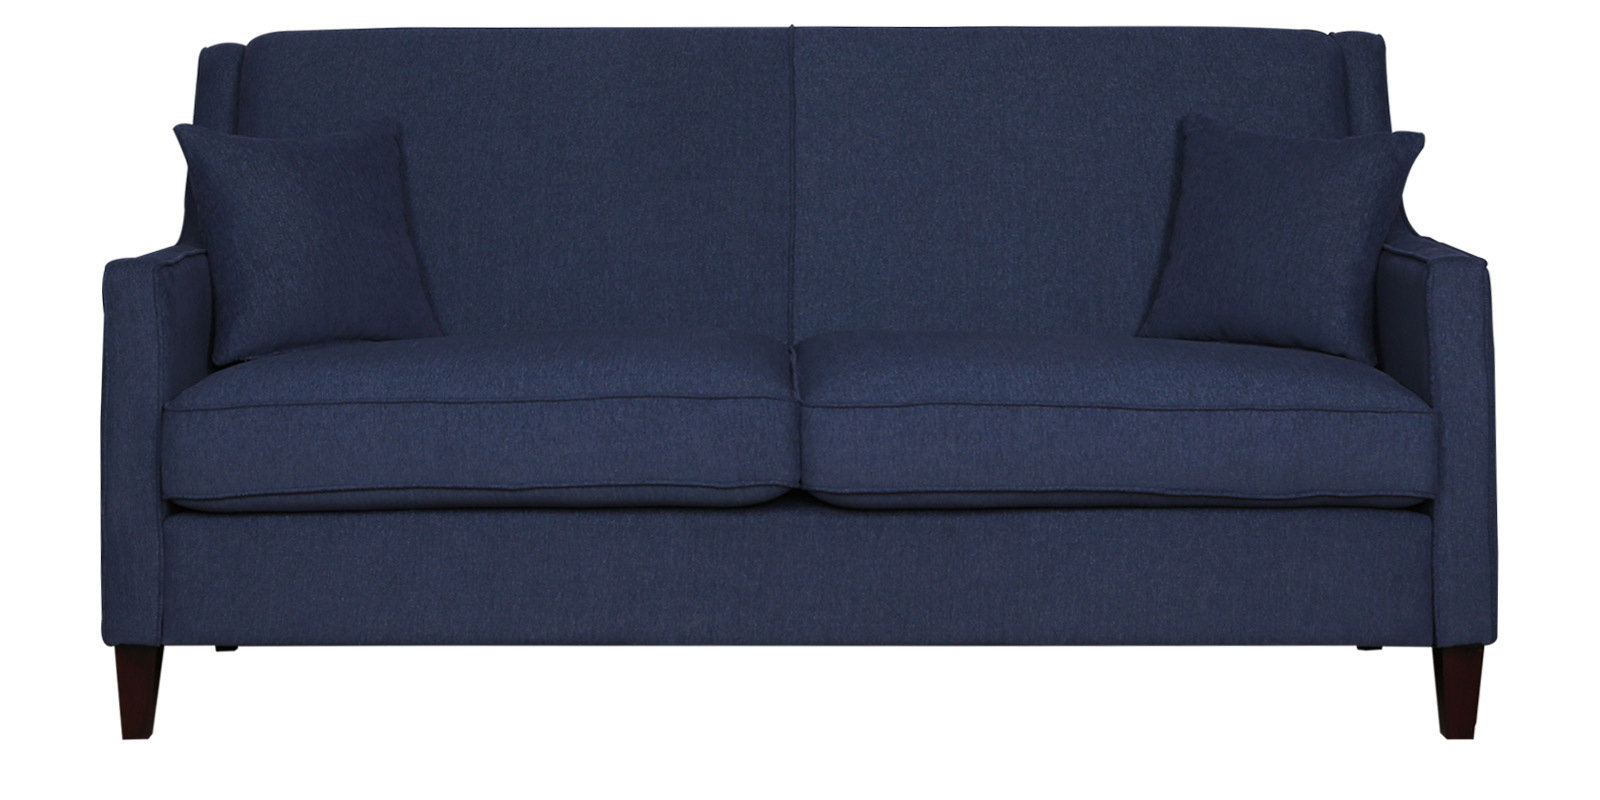Oscar Three Seater Sofa in Navy Blue Colour by CasaCraft: (97, 26, 1500, 741)
